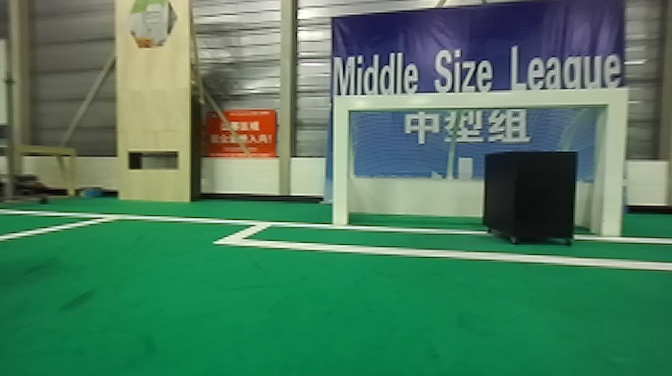goalpost: (599, 89, 625, 242), (333, 95, 354, 228)
